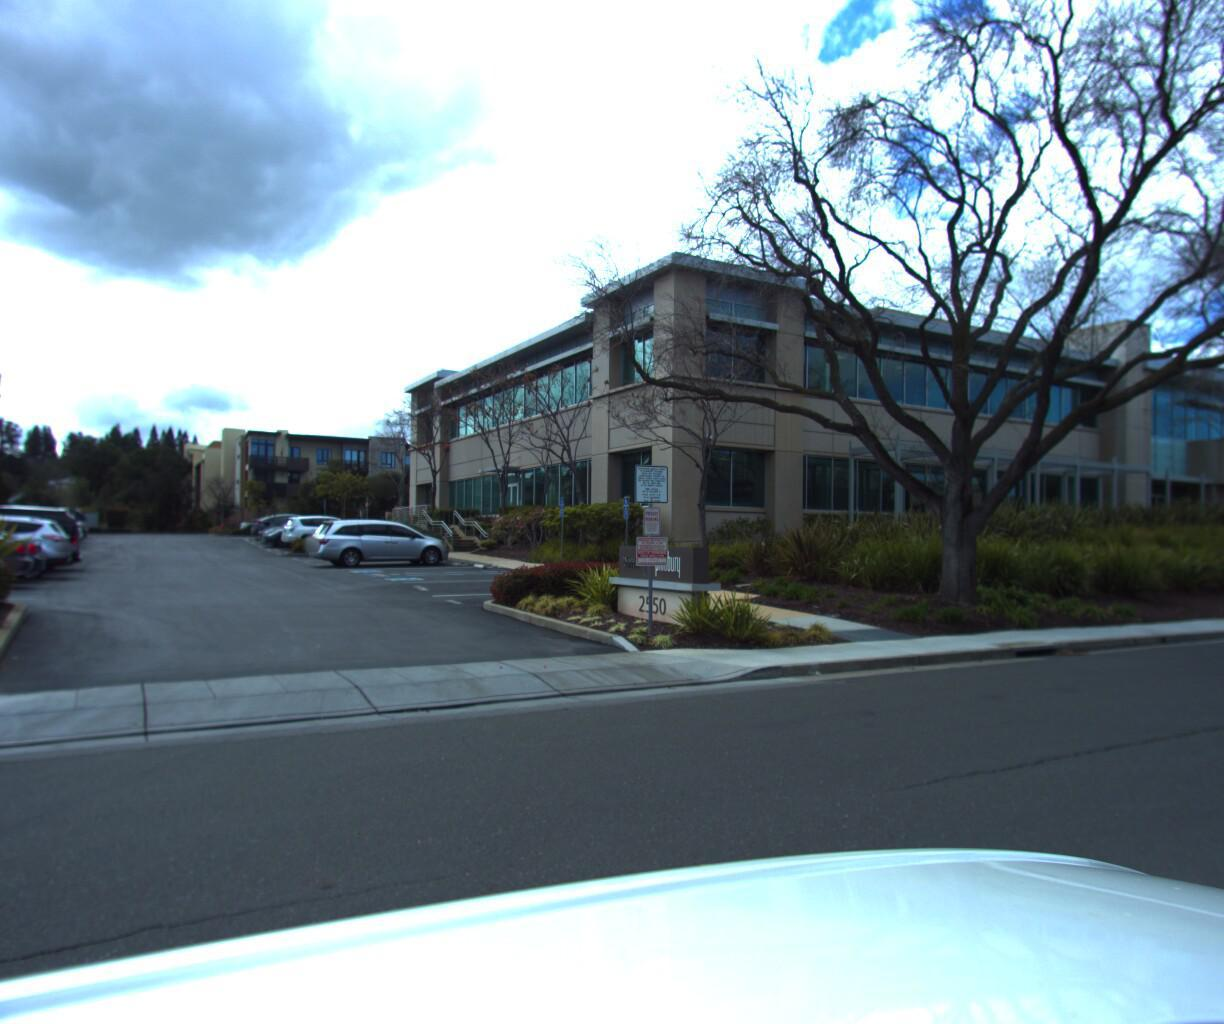car: (0, 513, 13, 623)
